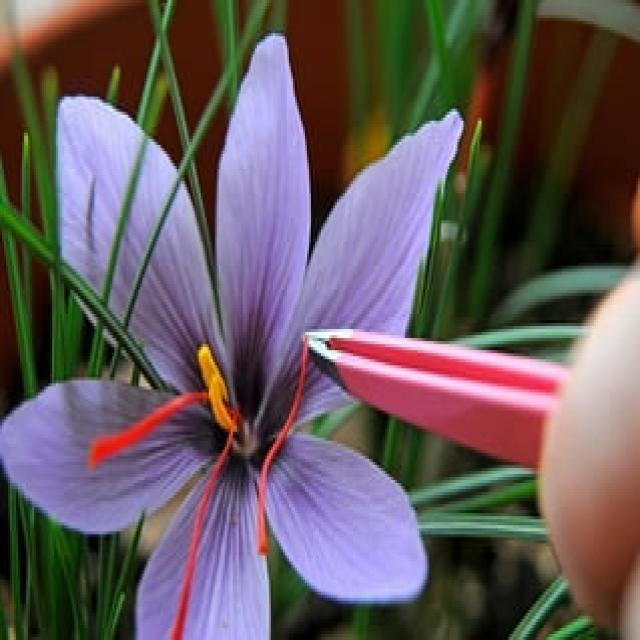Flower: (3, 32, 464, 640)
stigma: (231, 342, 316, 562), (159, 456, 227, 640), (79, 386, 225, 456)
